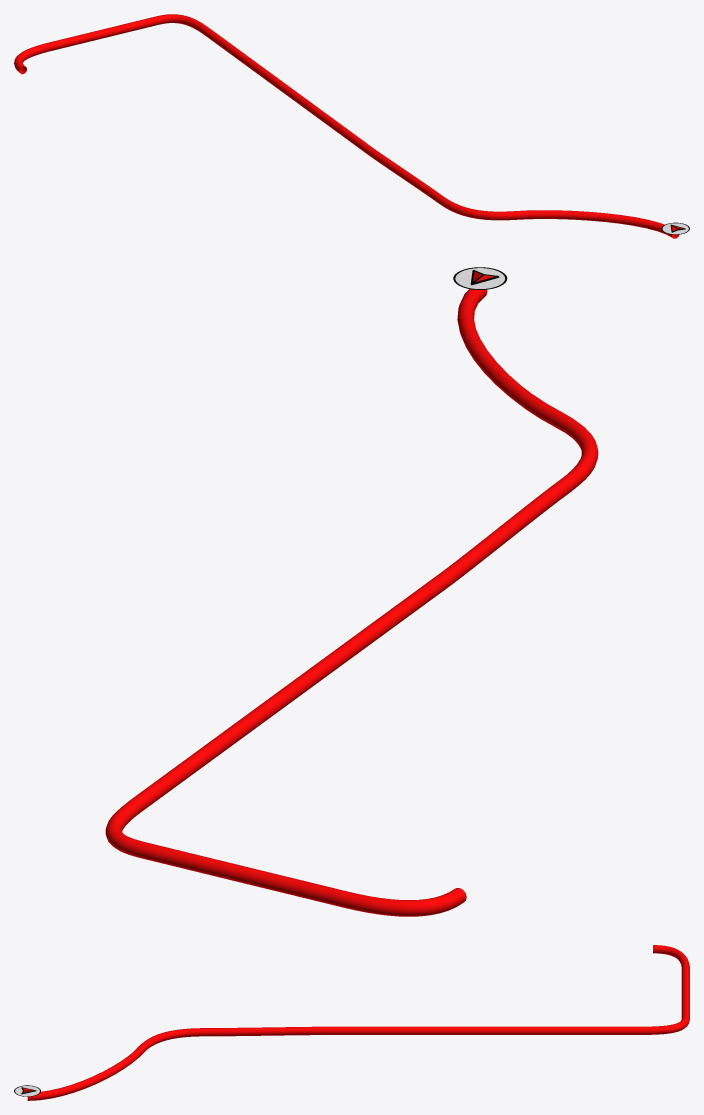
File: route_df5705a0-46c8-4b9e-a93f-eb0720bb2258_de_single.glb
3 renders of one model, top to bottom at view 1: azimuth 30°, elevation 25°; view 2: azimuth 150°, elevation 25°; view 3: azimuth 270°, elevation 25°, orthographic. The views are drawn at different scales.
Visible parts, largest first — view 1: A5, Abteil 2; view 2: A5, Abteil 2, Navipfeil.041; view 3: A5, Abteil 2, Navipfeil.041.
Part boxes in pixels (x1,y1,x2,y2): A5, Abteil 2: [14, 14, 678, 238]; A5, Abteil 2: [105, 289, 598, 916]; Navipfeil.041: [453, 267, 507, 289]; A5, Abteil 2: [27, 945, 689, 1100]; Navipfeil.041: [14, 1085, 40, 1096].
Bounding box in the file's own units: 3.52 × 0.1062 × 6.48.
